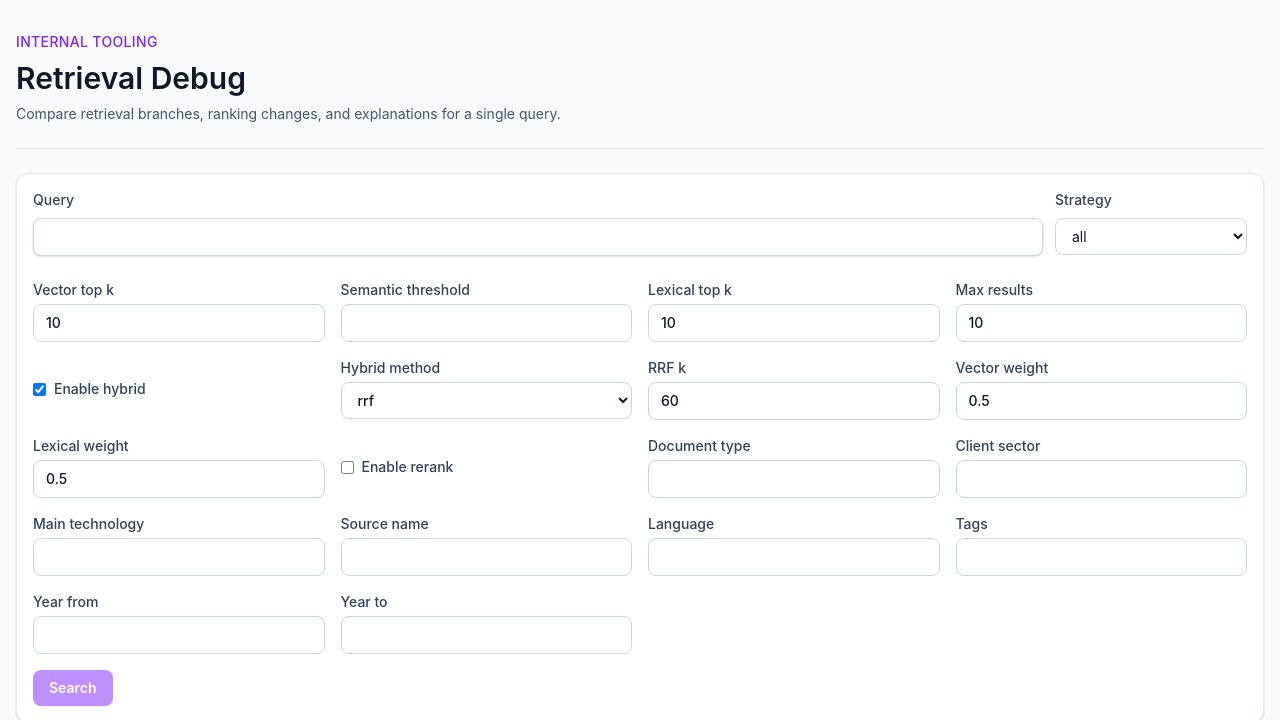
it: RetrievalDebugPage › renders an empty state when the API returns no final results
In the search field labelled "Query": (538, 237) [33,218,1043,256], type "OAuth backend"
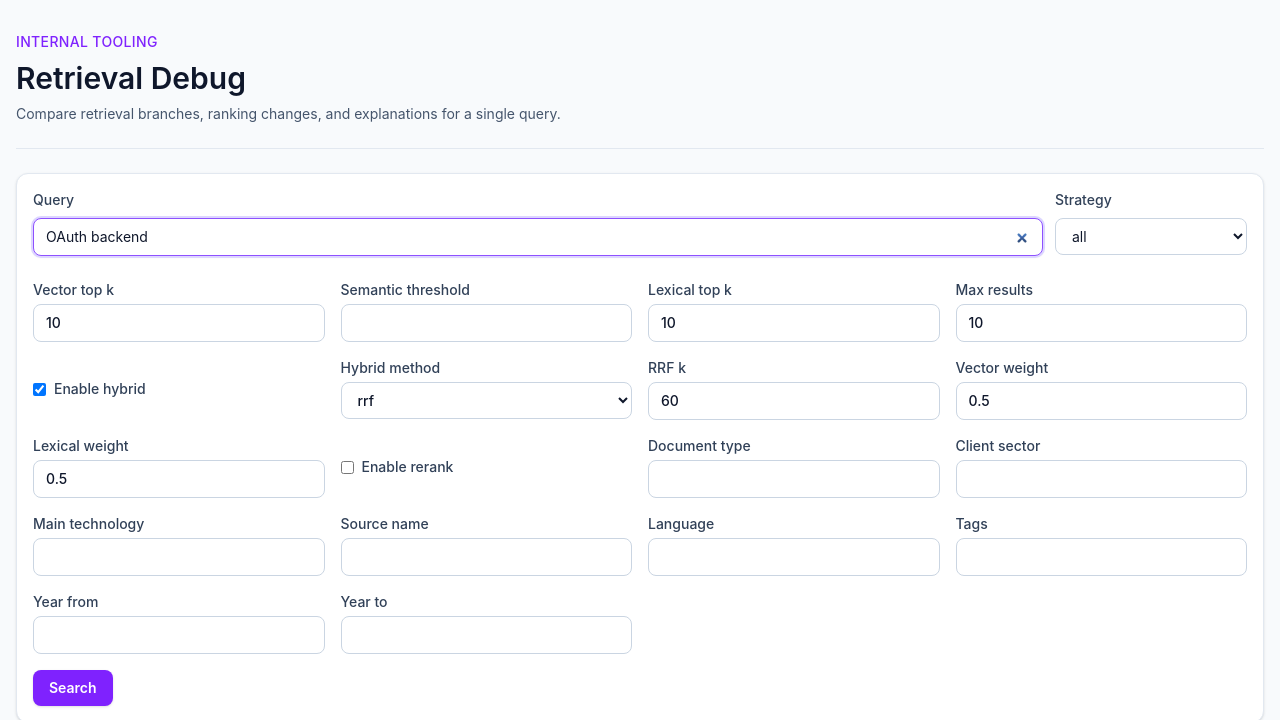
Click the button "Search": (73, 688) [33,670,112,706]
(page scrolled)
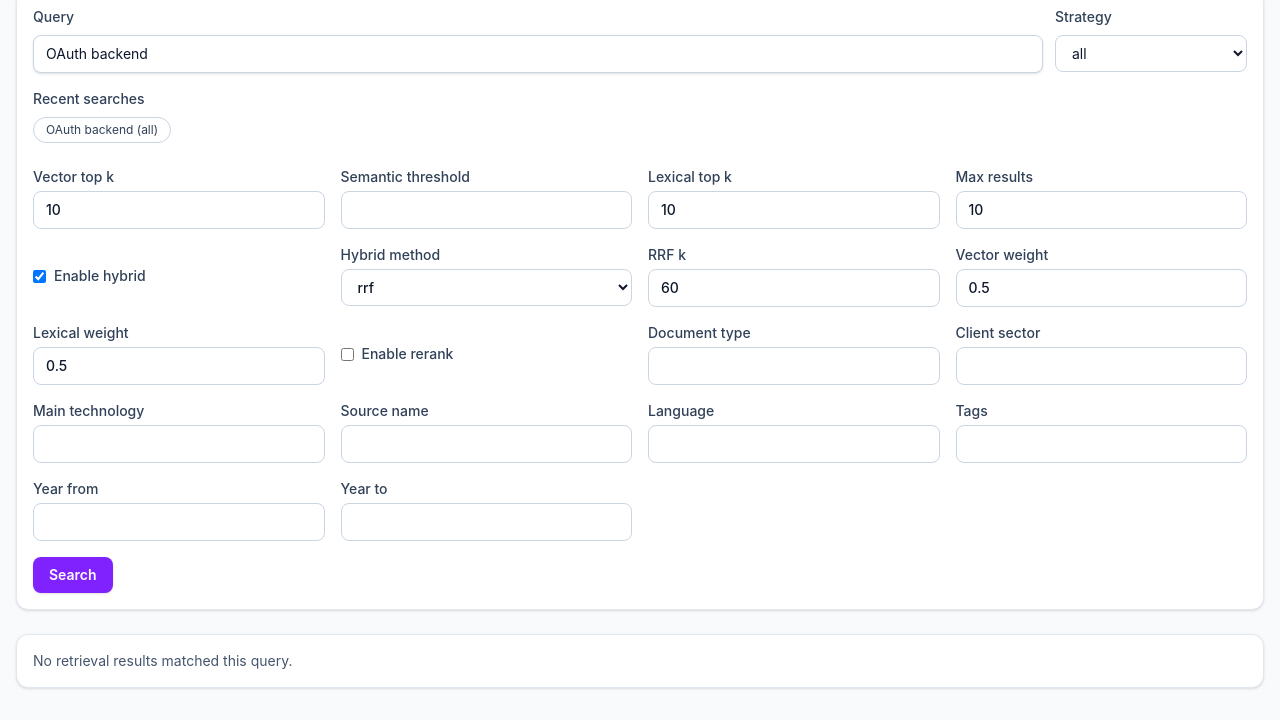
Result: the text "No retrieval results matched this query." is shown at [33,652,292,669]
